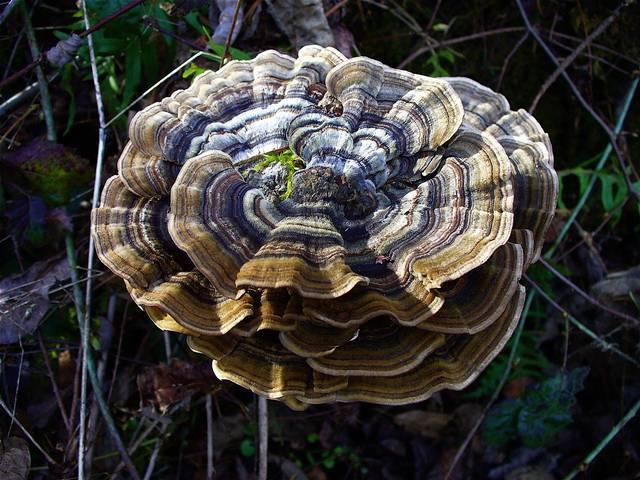Non-edible Mushroom: (89, 43, 559, 410)
